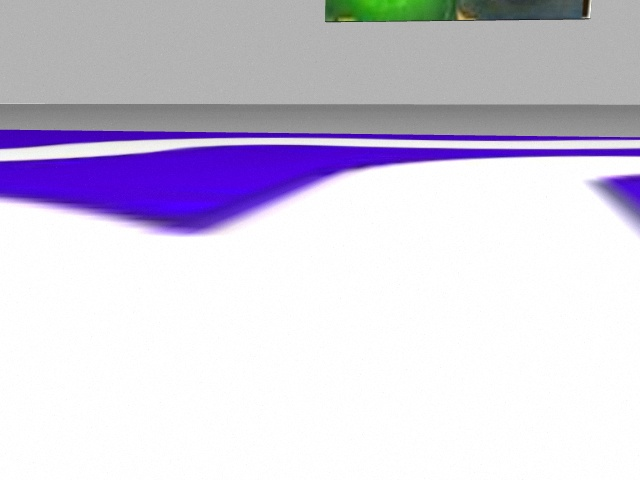green: (324, 1, 457, 22)
